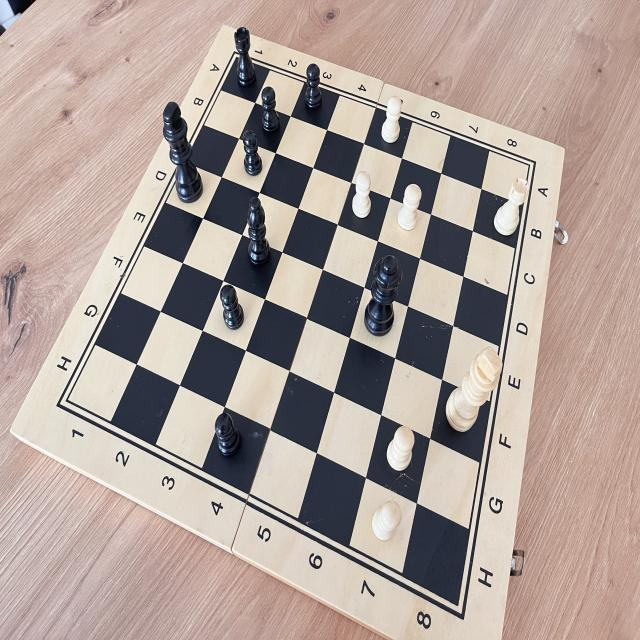black-bishop: (240, 188, 273, 272)
black-king: (156, 92, 206, 205)
black-pawn: (296, 59, 332, 116), (214, 279, 250, 335), (254, 81, 288, 140), (210, 406, 244, 463), (234, 126, 268, 180)
black-queen: (360, 247, 405, 347)
black-rook: (227, 22, 260, 94)
white-king: (436, 339, 505, 449)
white-pawn: (368, 494, 406, 548), (382, 419, 418, 475), (393, 179, 425, 238), (376, 90, 406, 150), (347, 166, 377, 224)
white-rook: (487, 172, 535, 247)
